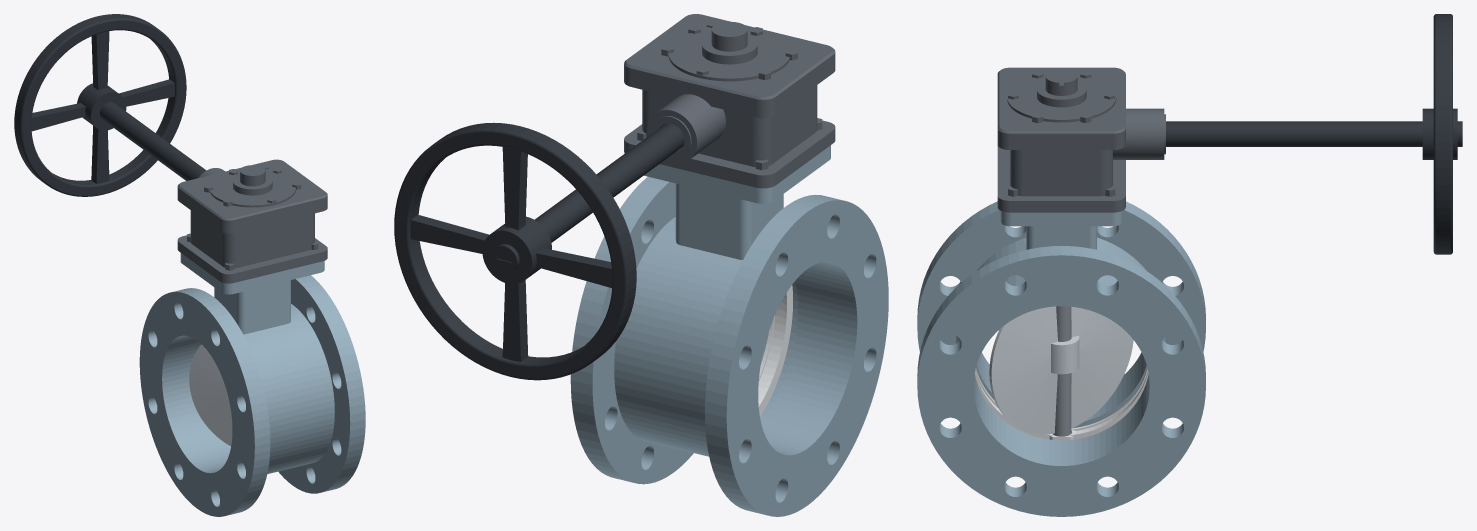
File: cad_v2_13.glb
3 renders of one model, left to right at view 1: azimuth 30°, elevation 25°; view 2: azimuth 150°, elevation 25°; view 3: azimuth 270°, elevation 25°, orthographic. The views are drawn at different scales.
Visible parts, largest first — view 1: valve_body, handwheel_with_worm_shaft, actuator_housing, throttling_disc; view 2: valve_body, handwheel_with_worm_shaft, actuator_housing, seat_ring; view 3: valve_body, actuator_housing, throttling_disc, handwheel_with_worm_shaft, seat_ring, vertical_stem.
Boxes of the visible parts, <box> form: valve_body: <box>139,253,365,516</box>; handwheel_with_worm_shaft: <box>14,14,206,196</box>; actuator_housing: <box>177,159,327,283</box>; throttling_disc: <box>189,344,232,446</box>; valve_body: <box>570,145,888,516</box>; handwheel_with_worm_shaft: <box>394,122,684,380</box>; actuator_housing: <box>624,14,835,188</box>; seat_ring: <box>758,285,792,416</box>; valve_body: <box>917,201,1205,516</box>; actuator_housing: <box>997,67,1165,212</box>; throttling_disc: <box>989,306,1133,434</box>; handwheel_with_worm_shaft: <box>1166,14,1462,254</box>; seat_ring: <box>974,368,1148,440</box>; vertical_stem: <box>1053,306,1071,436</box>.
Bounding box in the file's own units: 0.15 × 0.315 × 0.34.
